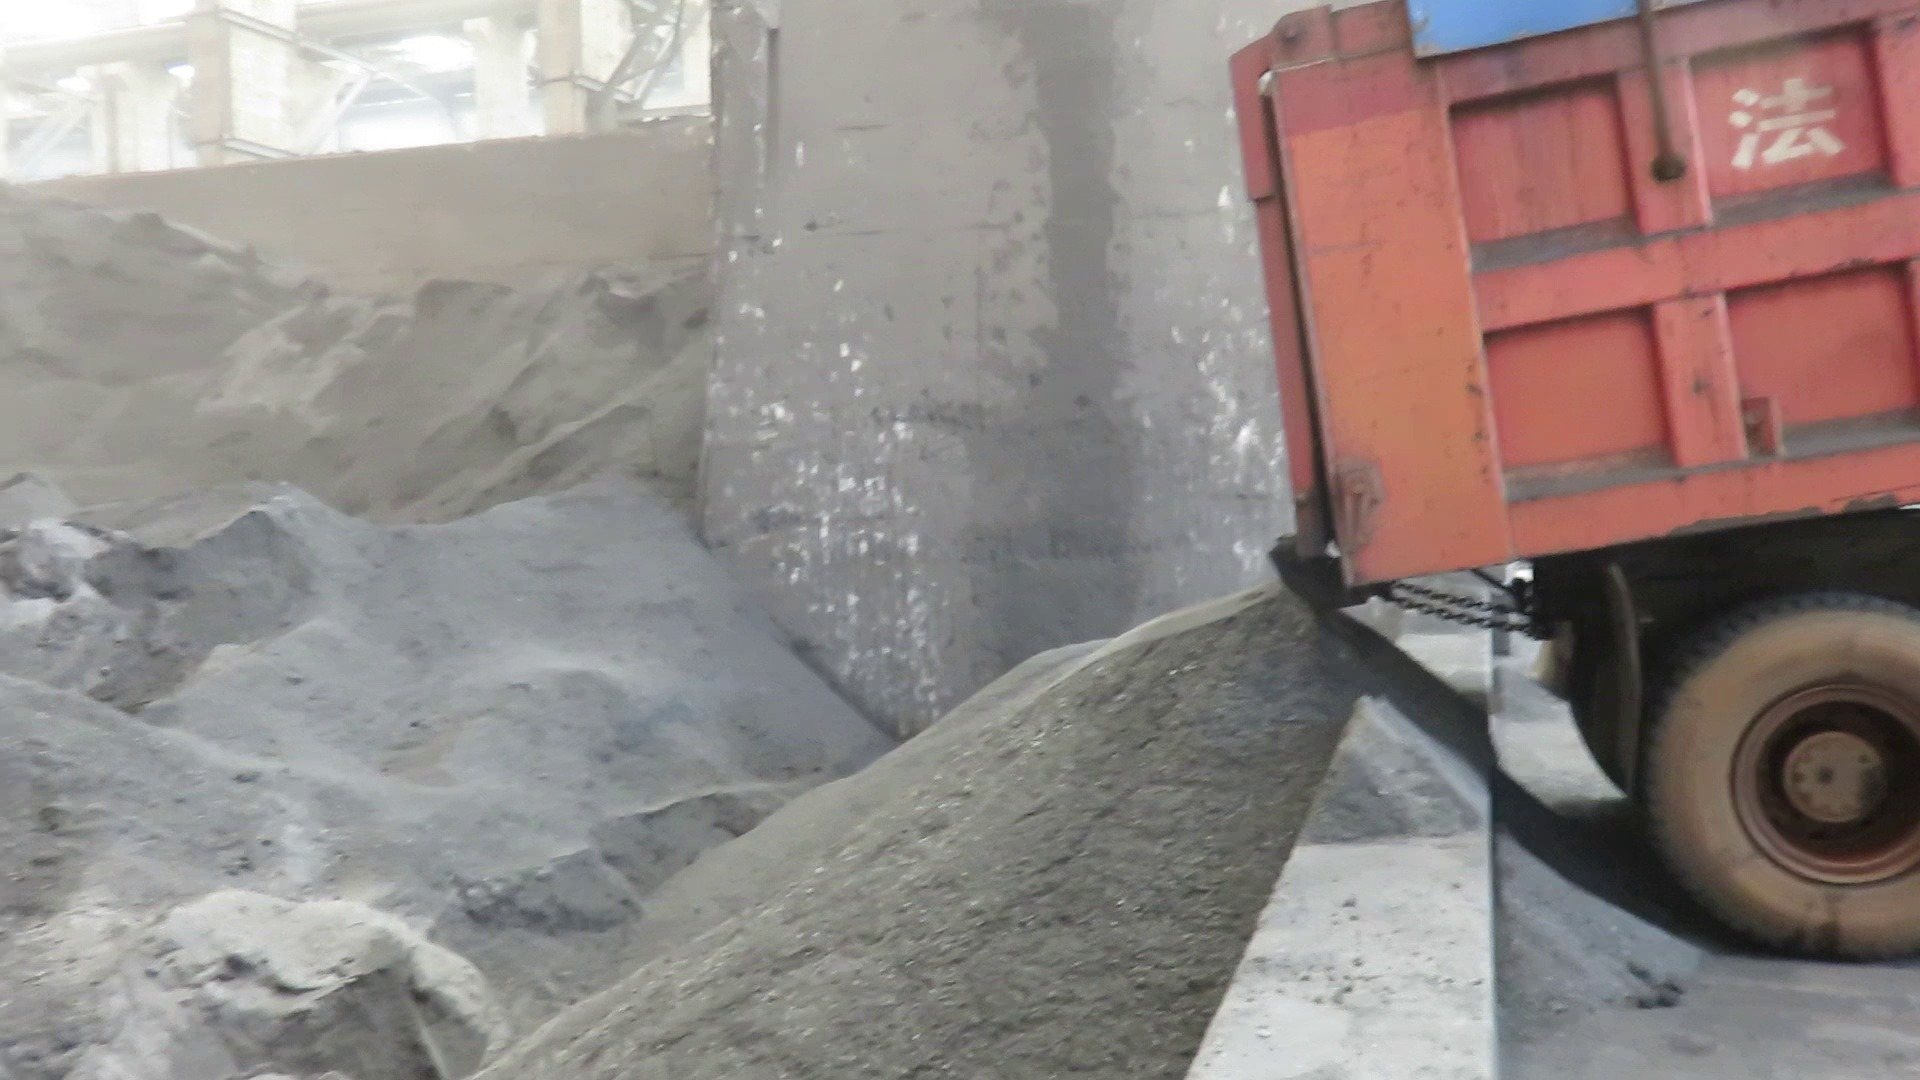truck: (1207, 0, 1920, 986)
